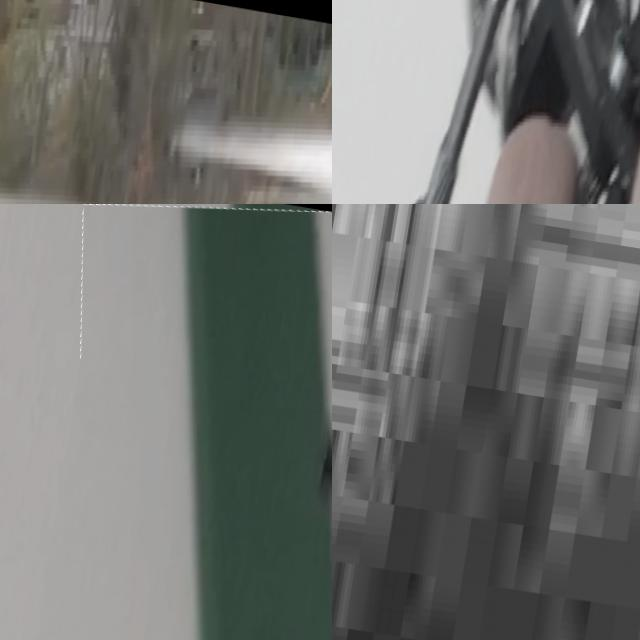drone: (10, 204, 332, 640), (0, 0, 332, 204), (332, 0, 640, 204)
